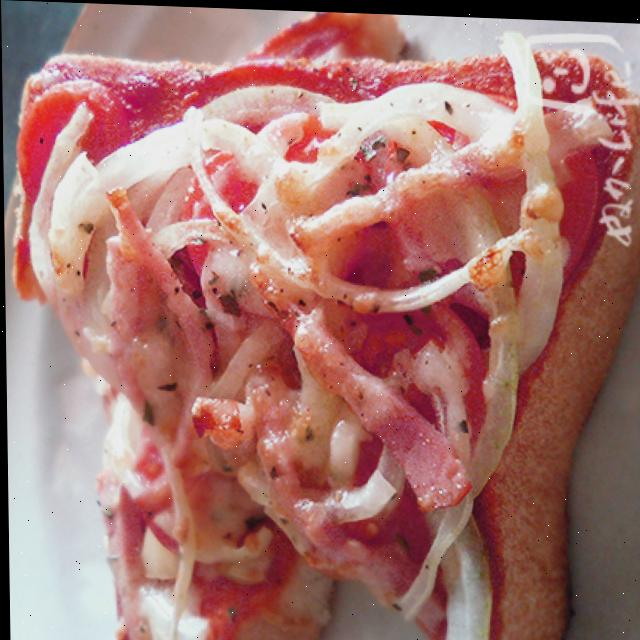面包点心: (0, 11, 631, 640)
